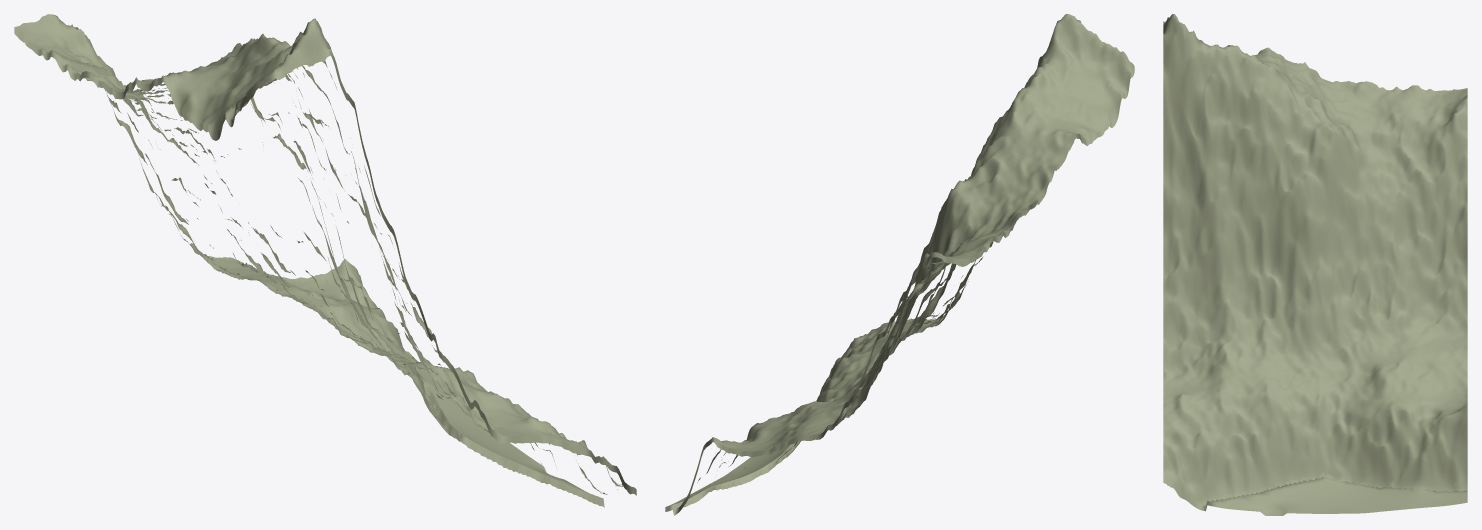
Rendered from terrain_r1_c0_lod0.glb.
3 views of the same model, side by side, from view 1: azimuth 30°, elevation 25°; view 2: azimuth 150°, elevation 25°; view 3: azimuth 270°, elevation 25° (orthographic). The views are drawn at different scales.
Visible parts, largest first — view 1: terrain_r1_c0; view 2: terrain_r1_c0; view 3: terrain_r1_c0.
Boxes of the visible parts, box(x1,y1,x2,y2) form: terrain_r1_c0: box(14, 14, 636, 507); terrain_r1_c0: box(665, 14, 1134, 515); terrain_r1_c0: box(1163, 14, 1467, 515).
Bounding box in the file's own units: 50 × 72.25 × 50.
